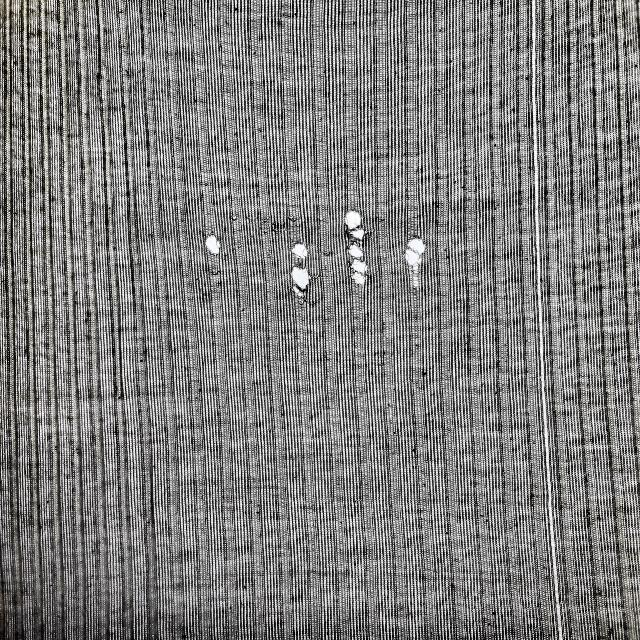cut: (203, 229, 227, 256), (343, 201, 364, 230), (292, 234, 313, 260), (291, 270, 312, 290), (347, 253, 372, 268), (349, 269, 371, 283), (348, 243, 366, 258), (349, 229, 368, 242)
gray stitch: (528, 0, 576, 640), (404, 228, 431, 293)
